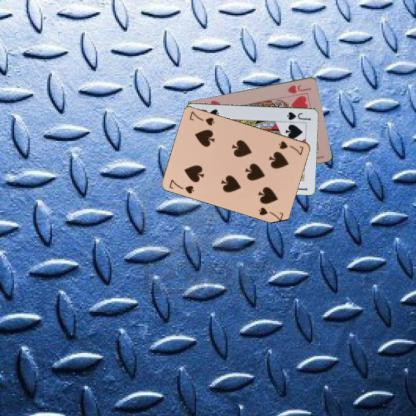7s: (276, 138, 305, 156), (167, 177, 196, 195)
Jh: (284, 81, 313, 95)
Js: (284, 110, 312, 122)
